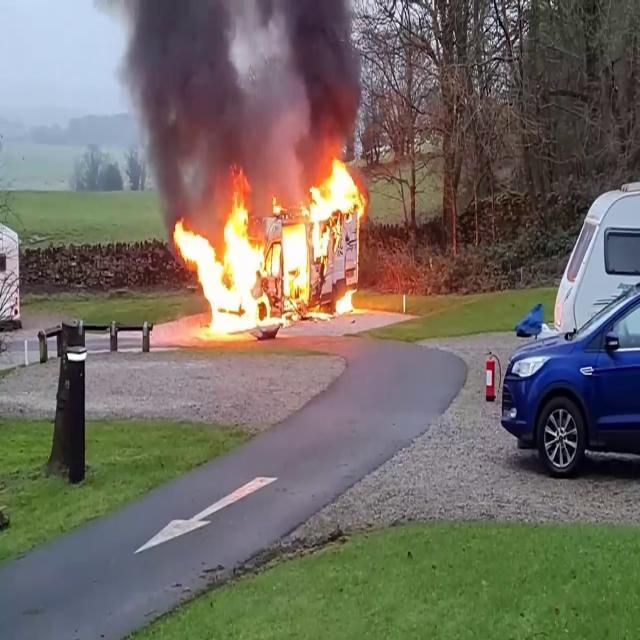Fire: (172, 152, 368, 332)
Smoke: (101, 0, 366, 196)
